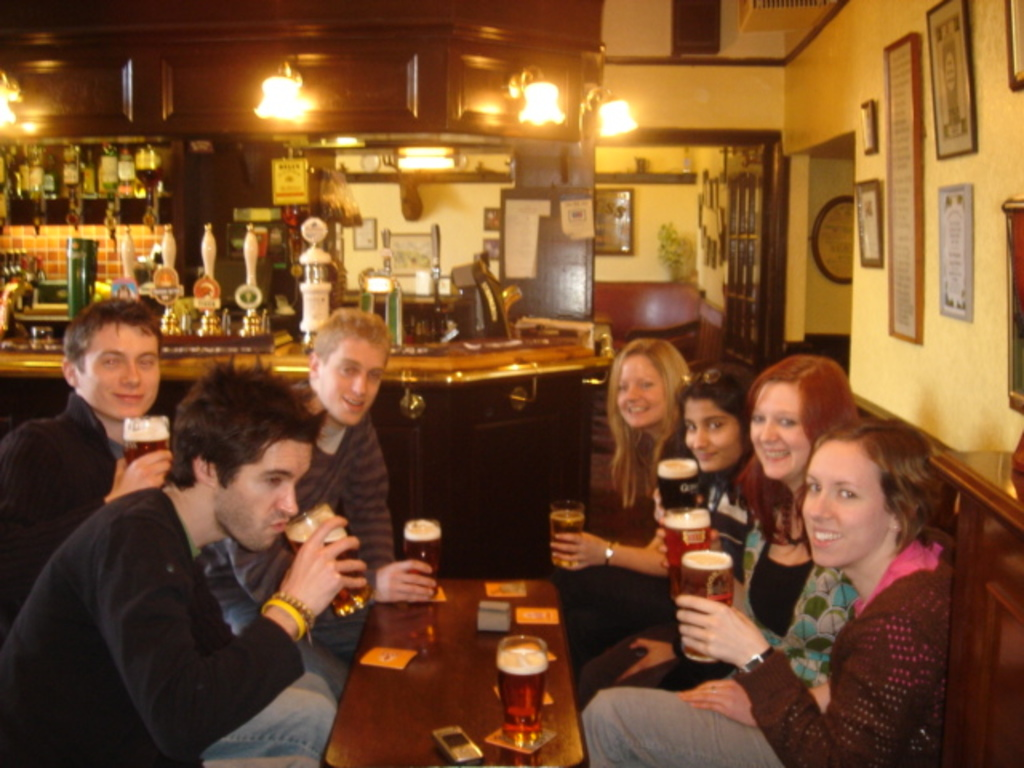Beer: (497, 641, 551, 744)
